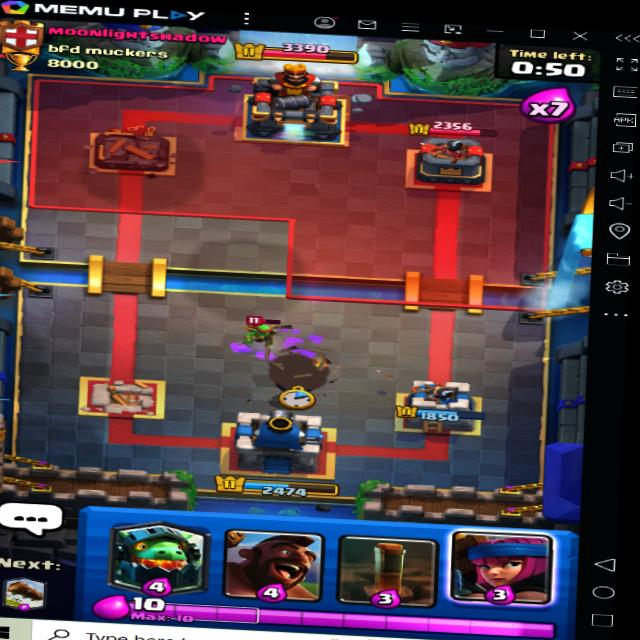spear-goblin: (246, 318, 288, 350)
